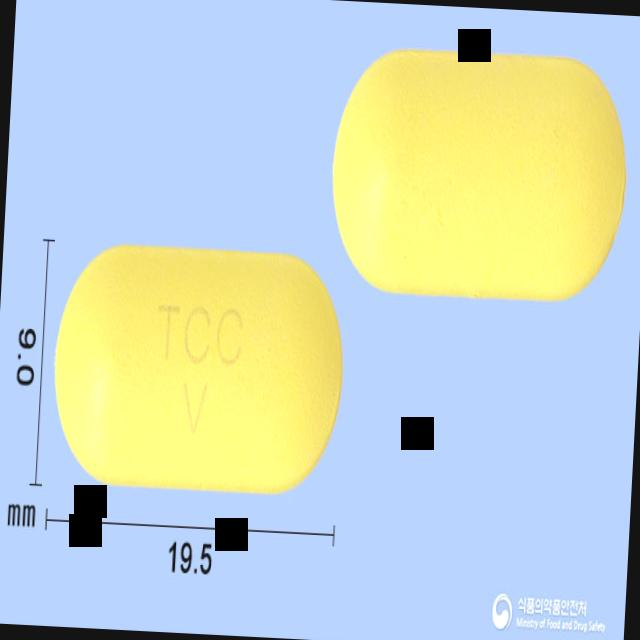Clycin: (49, 238, 349, 498)
